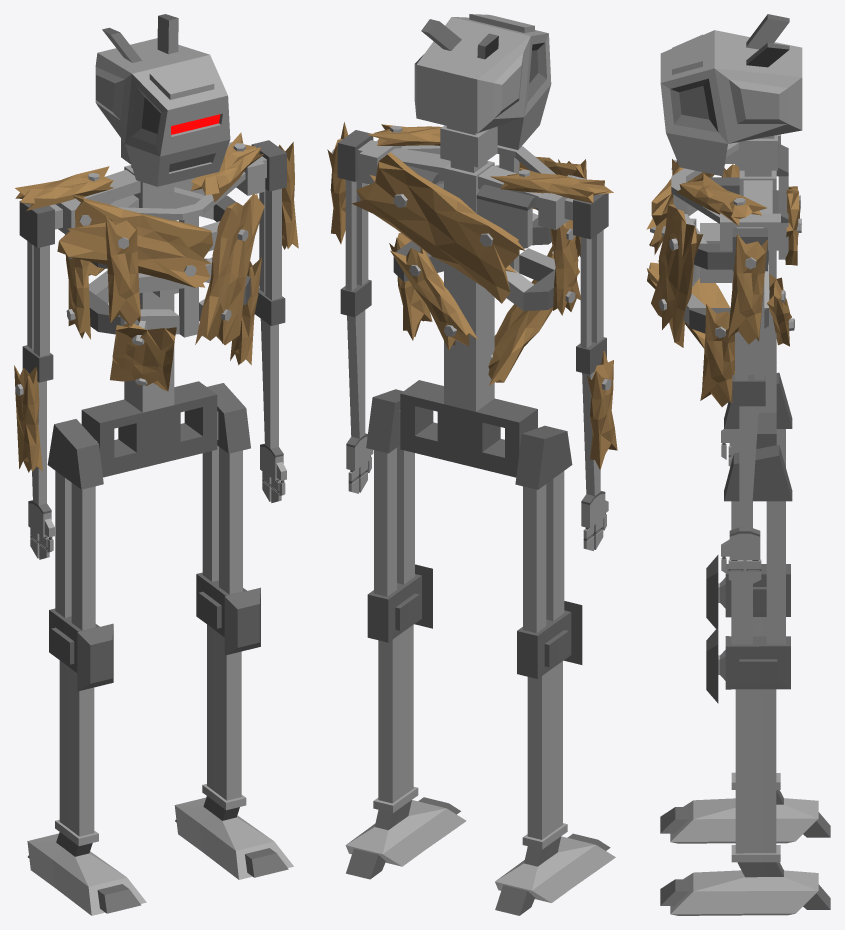
Rendered from RobotNoWeapon.fbx.
The picture shows the model from 3 angles, left to right: view 1: azimuth 30°, elevation 25°; view 2: azimuth 150°, elevation 25°; view 3: azimuth 270°, elevation 25°; orthographic projection.
Parts seen in each view (by area): view 1: LowerLegMesh (×2), SkeletonMesh, Head, UpperLegMesh (×2), LowerArmMesh (×2), UpperArmMesh (×2), Plank7, Plank1, Splinter12 (×2), Plank8, Splinter11, Splinter7 (+3 smaller); view 2: LowerLegMesh (×2), SkeletonMesh, Head, UpperLegMesh (×2), Plank9, LowerArmMesh (×2), UpperArmMesh (×2), Splinter12 (×2), Splinter10, Plank8, Splinter7, Splinter9 (+2 smaller); view 3: LowerLegMesh (×2), Head, SkeletonMesh, UpperLegMesh (×2), LowerArmMesh, Plank1, Splinter12, Splinter8, UpperArmMesh, Splinter6, Plank8, Plank7 (+2 smaller).
Part boxes in pixels (<box>): LowerLegMesh (×2): <box>27,572,293,915</box>; SkeletonMesh: <box>50,142,266,477</box>; Head: <box>95,14,230,186</box>; UpperLegMesh (×2): <box>47,383,250,630</box>; LowerArmMesh (×2): <box>22,289,286,559</box>; UpperArmMesh (×2): <box>19,140,286,356</box>; Plank7: <box>57,195,212,287</box>; Plank1: <box>195,193,264,344</box>; Splinter12 (×2): <box>14,142,298,472</box>; Plank8: <box>110,323,176,391</box>; Splinter11: <box>105,216,140,326</box>; Splinter7: <box>15,166,113,210</box>; LowerLegMesh (×2): <box>345,564,615,915</box>; SkeletonMesh: <box>357,140,586,477</box>; Head: <box>414,14,551,167</box>; UpperLegMesh (×2): <box>366,389,572,632</box>; Plank9: <box>352,152,525,303</box>; LowerArmMesh (×2): <box>340,279,608,551</box>; UpperArmMesh (×2): <box>337,130,608,348</box>; Splinter12 (×2): <box>327,122,617,469</box>; Splinter10: <box>390,247,477,350</box>; Plank8: <box>488,246,579,385</box>; Splinter7: <box>490,167,613,203</box>; Splinter9: <box>550,220,580,315</box>; LowerLegMesh (×2): <box>660,555,830,915</box>; Head: <box>660,14,802,176</box>; SkeletonMesh: <box>671,134,788,448</box>; UpperLegMesh (×2): <box>724,372,792,644</box>; LowerArmMesh: <box>721,375,765,586</box>; Plank1: <box>651,204,703,347</box>; Splinter12: <box>728,234,767,344</box>; Splinter8: <box>700,304,734,406</box>; UpperArmMesh: <box>732,228,767,380</box>; Splinter6: <box>676,173,766,225</box>; Plank8: <box>647,260,734,374</box>; Plank7: <box>646,167,714,254</box>.
Bounding box in the file's own units: 1.96 × 5.74 × 1.15.
